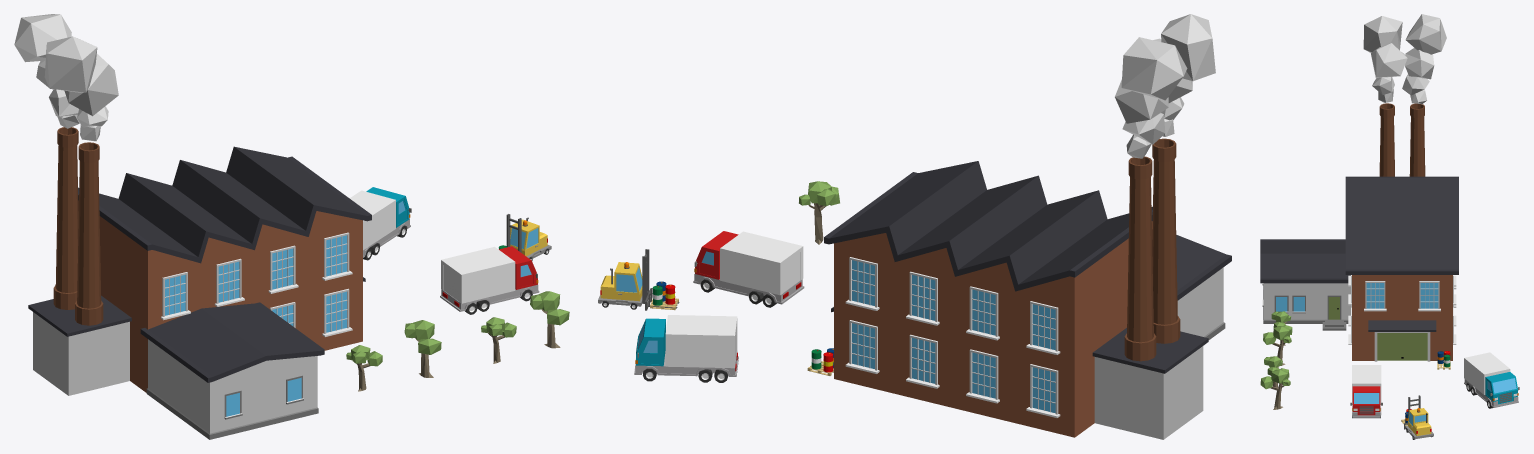
The model's file is building_factorysmall.glb.
The picture shows the model from 3 angles, left to right: view 1: azimuth 30°, elevation 25°; view 2: azimuth 150°, elevation 25°; view 3: azimuth 270°, elevation 25°; orthographic projection. The views are drawn at different scales.
Parts seen in each view (by area): view 1: _2_floor_factory_ID67, _2_floor_factory_ID83, Office_ID163, Office_ID175, group_0_ID13, SketchUp_3, Truck_Box_ID414, Chimney_ID53, Chimney_ID53_1, group_53_ID1399, SketchUp, SketchUp_2 (+9 smaller); view 2: _2_floor_factory_ID67, _2_floor_factory_ID83, group_0_ID13, SketchUp_3, Truck_Box_ID414, SketchUp_2, SketchUp, Chimney_ID53_1, Chimney_ID53, Truck_Box_ID414_2, group_54_ID1406, group_53_ID1399 (+11 smaller); view 3: _2_floor_factory_ID83, _2_floor_factory_ID67, Office_ID163, Office_ID175, Garage_ID1462, group_54_ID1406, group_53_ID1399, Truck_Box_ID414_2, group_49_ID1413, Chimney_ID53_1, Chimney_ID53, SketchUp_ID1623 (+14 smaller).
Boxes of the visible parts, x1,y1,x2,y2 form: _2_floor_factory_ID67: (78,200,362,392); _2_floor_factory_ID83: (78,146,371,263); Office_ID163: (140,302,324,382); Office_ID175: (148,339,317,433); group_0_ID13: (33,312,129,395); SketchUp_3: (165,235,346,332); Truck_Box_ID414: (441,246,515,303); Chimney_ID53: (77,161,101,308); Chimney_ID53_1: (55,145,78,292); group_53_ID1399: (44,36,97,92); SketchUp: (163,233,349,333); SketchUp_2: (161,232,352,336); _2_floor_factory_ID67: (834,221,1152,437); _2_floor_factory_ID83: (824,161,1152,291); group_0_ID13: (1094,346,1203,439); SketchUp_3: (852,260,1055,413); Truck_Box_ID414: (720,231,803,295); SketchUp_2: (845,257,1060,417); SketchUp: (849,257,1057,414); Chimney_ID53_1: (1127,177,1153,342); Chimney_ID53: (1152,159,1177,324); Truck_Box_ID414_2: (665,315,737,368); group_54_ID1406: (1121,37,1187,100); group_53_ID1399: (1161,14,1215,81); _2_floor_factory_ID83: (1345,176,1458,274); _2_floor_factory_ID67: (1352,275,1452,360); Office_ID163: (1260,239,1350,283); Office_ID175: (1264,283,1350,319); Garage_ID1462: (1377,333,1427,360); group_54_ID1406: (1405,14,1446,54); group_53_ID1399: (1363,16,1402,52); Truck_Box_ID414_2: (1464,352,1510,394); group_49_ID1413: (1371,42,1407,77); Chimney_ID53_1: (1409,116,1425,176); Chimney_ID53: (1379,116,1394,176); SketchUp_ID1623: (1368,320,1436,331).
Size of the model in its own units: 3.43 by 2.21 by 2.06.
